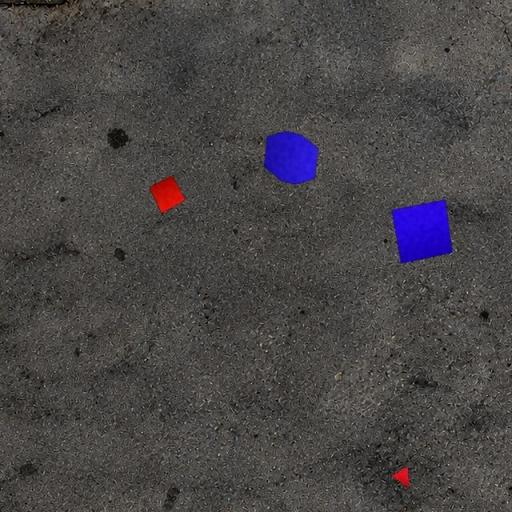BLUE_SQUARE: (391, 199, 453, 265)
RED_SQUARE: (148, 174, 186, 214)
